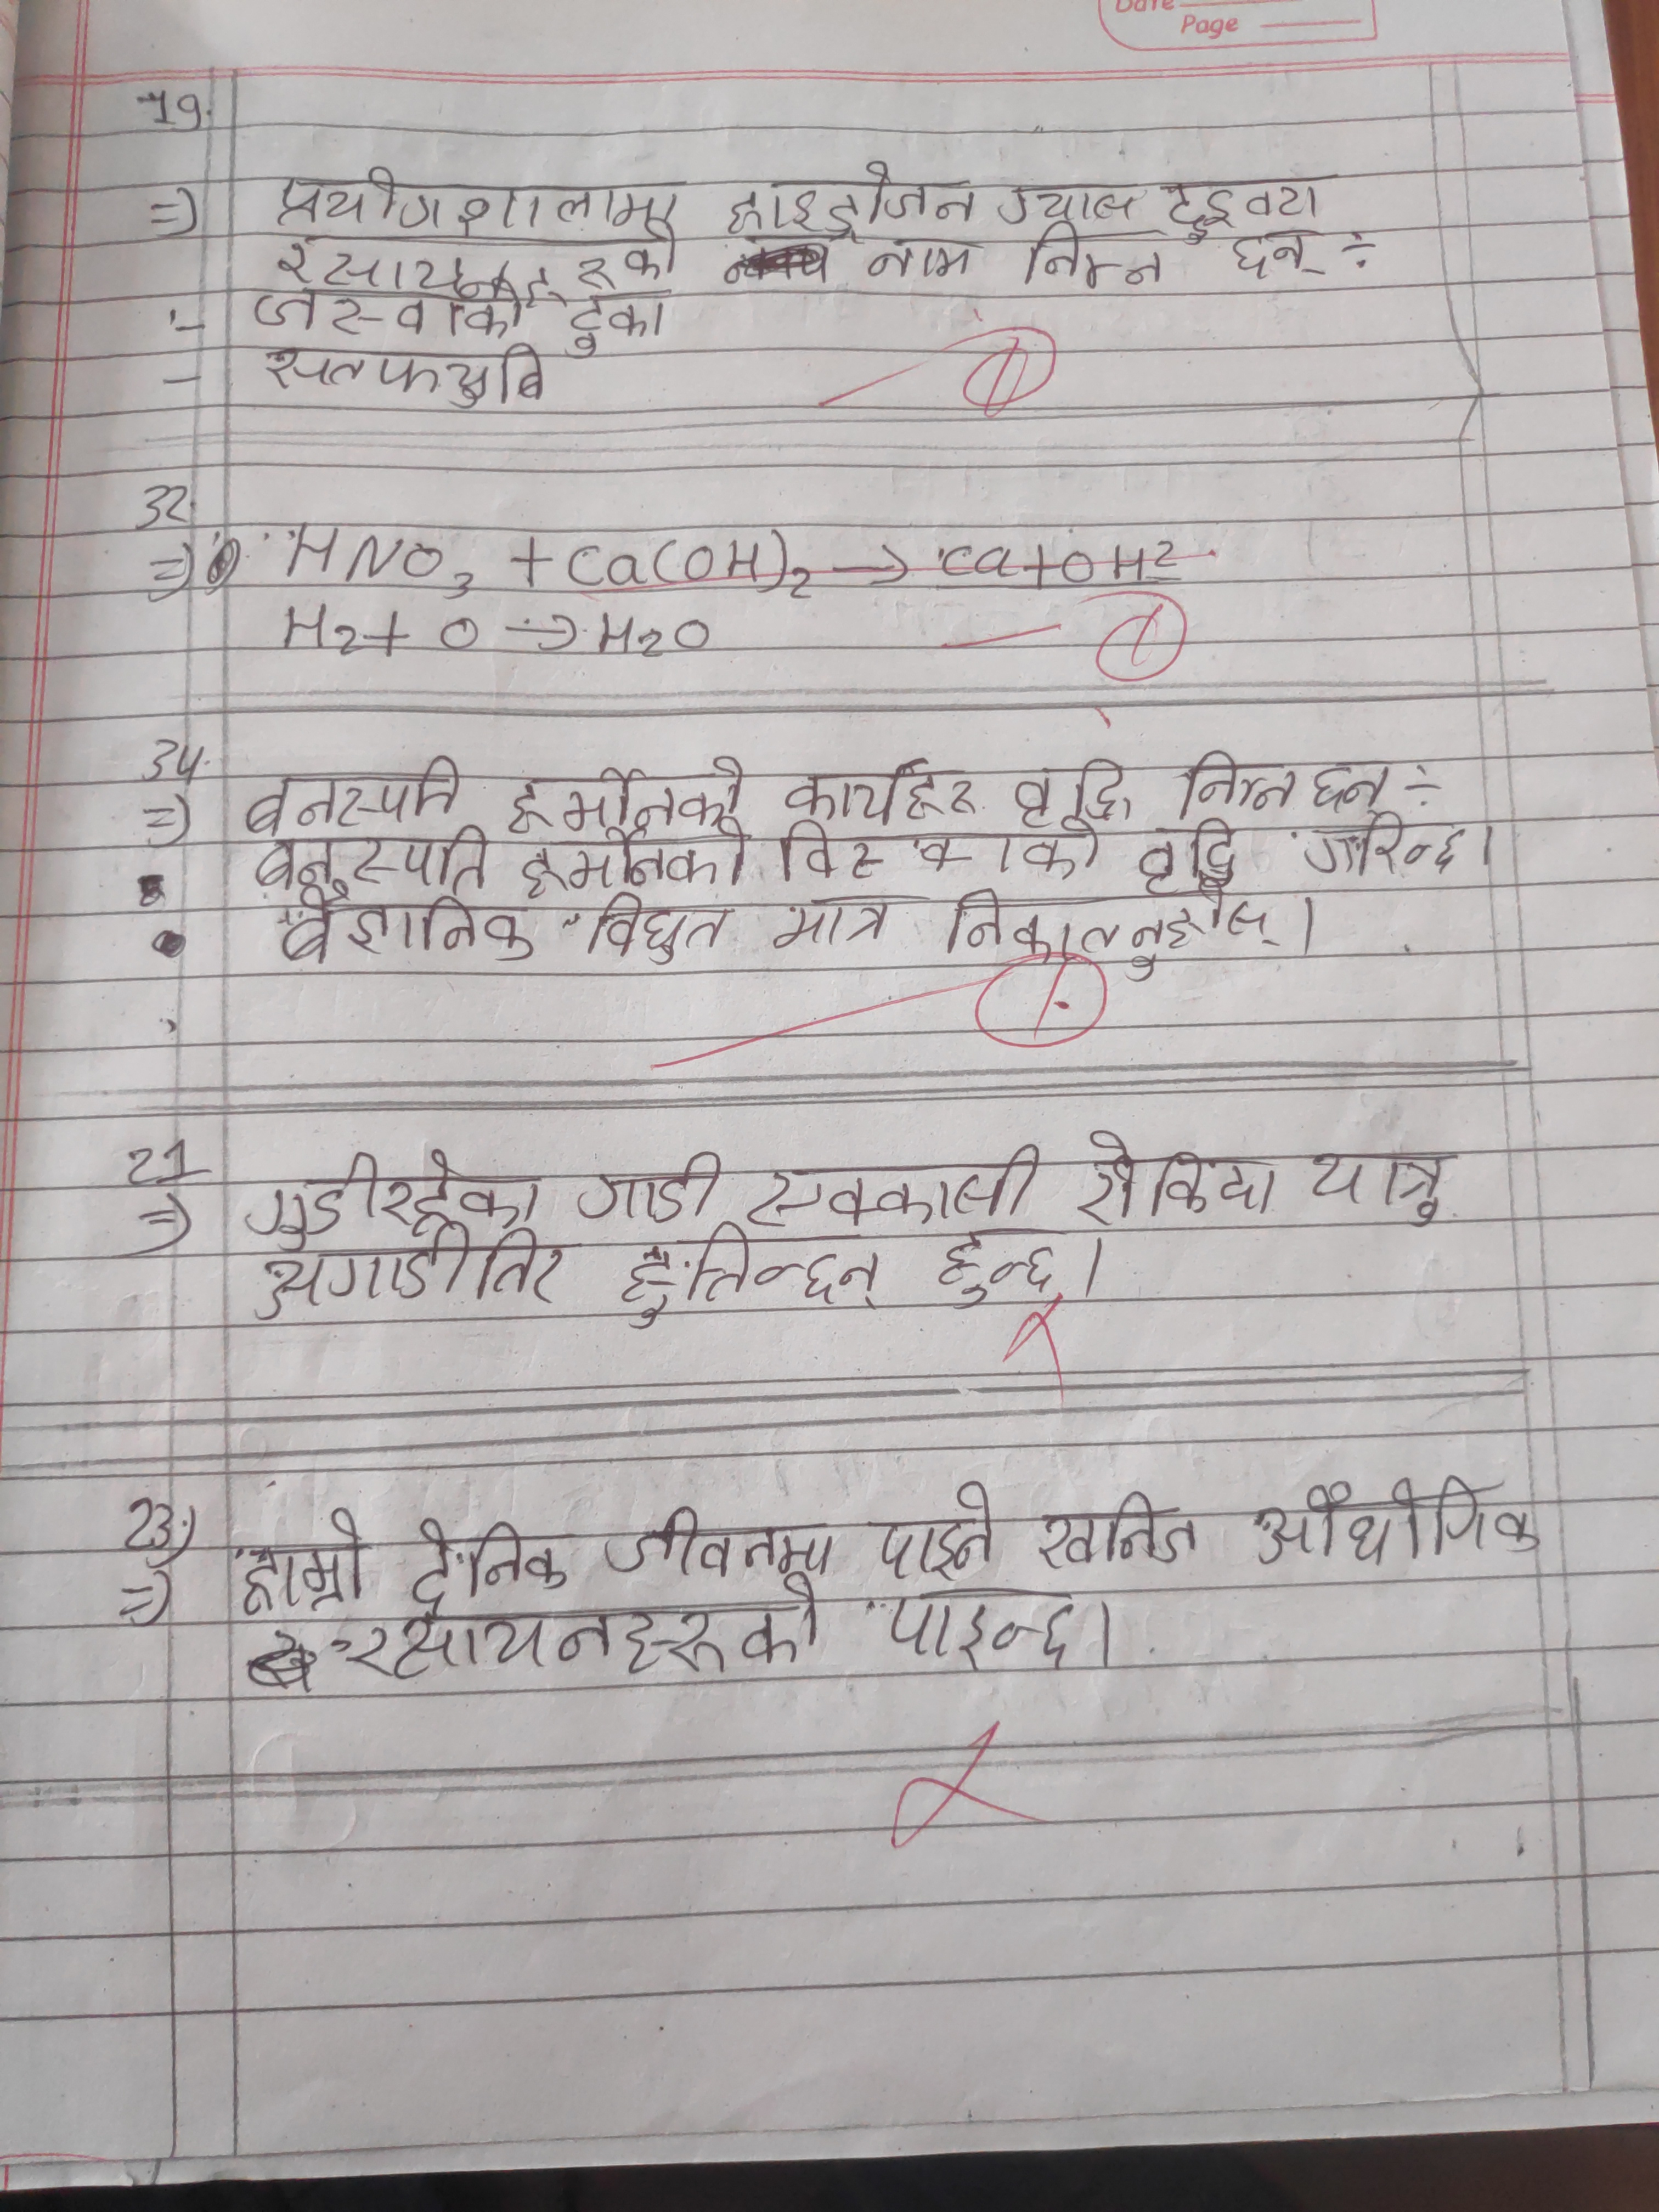text: (943, 880, 1283, 984), (345, 1601, 734, 1679), (242, 1150, 542, 1249), (274, 164, 681, 235), (1251, 1475, 1544, 1573), (247, 1226, 563, 1313), (620, 1226, 890, 1324), (744, 1143, 1049, 1228), (272, 230, 688, 289), (774, 810, 1105, 883), (1065, 1125, 1288, 1224), (260, 340, 552, 415), (274, 892, 535, 970), (723, 155, 979, 233), (502, 751, 748, 829), (403, 1512, 573, 1623), (242, 751, 464, 834), (882, 1587, 1086, 1677), (598, 1507, 847, 1578), (244, 834, 500, 900), (519, 834, 756, 902), (247, 280, 532, 336), (242, 1505, 371, 1620), (1032, 1493, 1209, 1575), (1300, 1150, 1473, 1230), (779, 763, 971, 833), (875, 1477, 1002, 1580), (584, 885, 734, 967), (1018, 219, 1180, 294), (577, 1150, 725, 1231), (934, 1223, 1066, 1313), (1161, 174, 1323, 233), (1178, 745, 1300, 824), (765, 888, 906, 954), (992, 171, 1147, 230), (1012, 756, 1134, 831), (1302, 822, 1473, 874), (1138, 822, 1253, 895), (737, 1581, 833, 1665), (561, 293, 678, 357), (868, 225, 978, 293), (1230, 225, 1328, 293), (1305, 752, 1398, 824)
